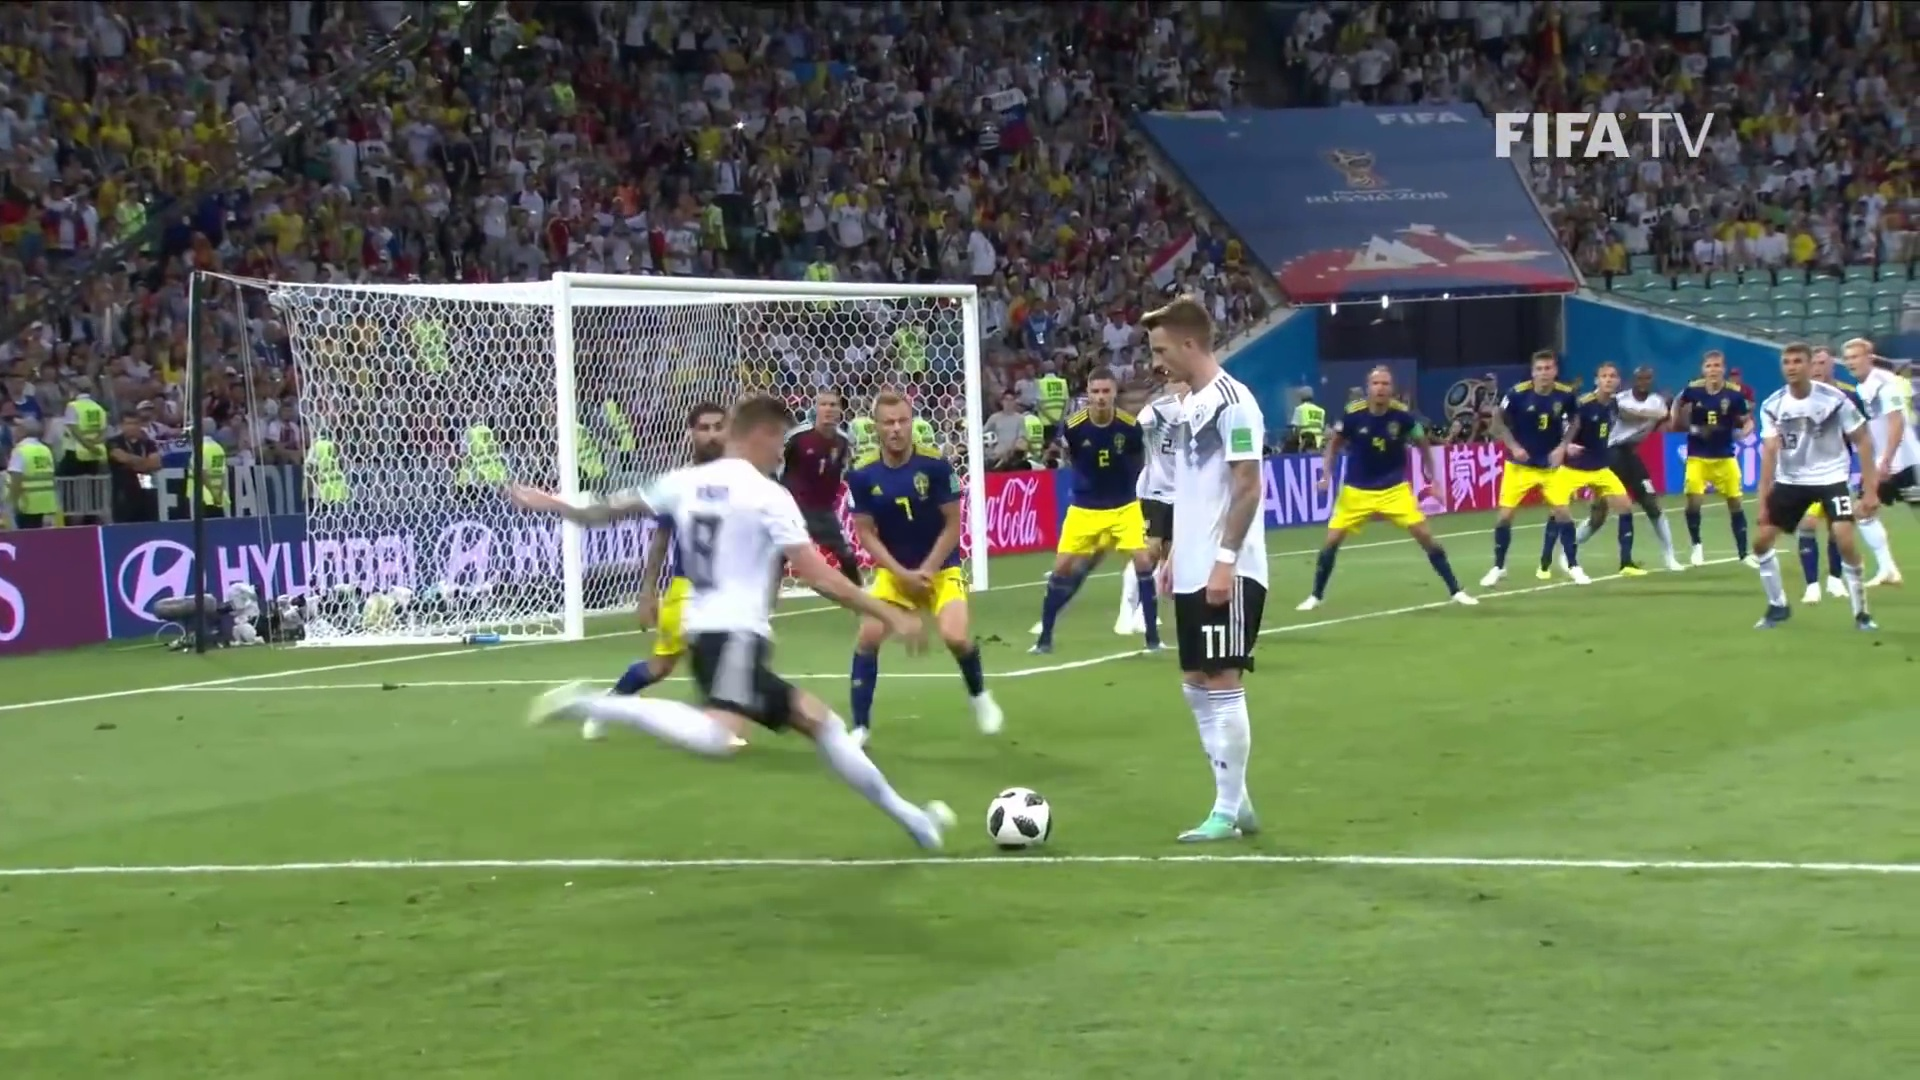ball: (989, 788, 1050, 851)
person: (530, 401, 948, 847), (1146, 303, 1263, 838), (846, 395, 998, 734), (1309, 355, 1471, 603), (1038, 374, 1169, 645), (1758, 347, 1874, 628), (1492, 353, 1584, 586), (1674, 349, 1757, 569), (1844, 338, 1920, 574), (1609, 365, 1676, 576), (1574, 360, 1640, 573), (1813, 345, 1871, 434), (663, 399, 732, 472)
